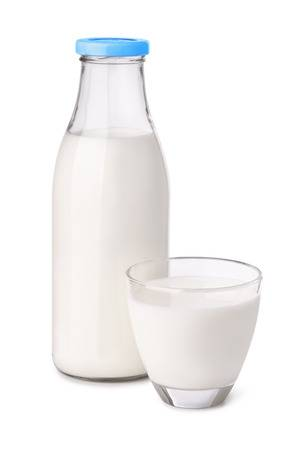glass of milk: (53, 31, 180, 387), (116, 249, 271, 415)
